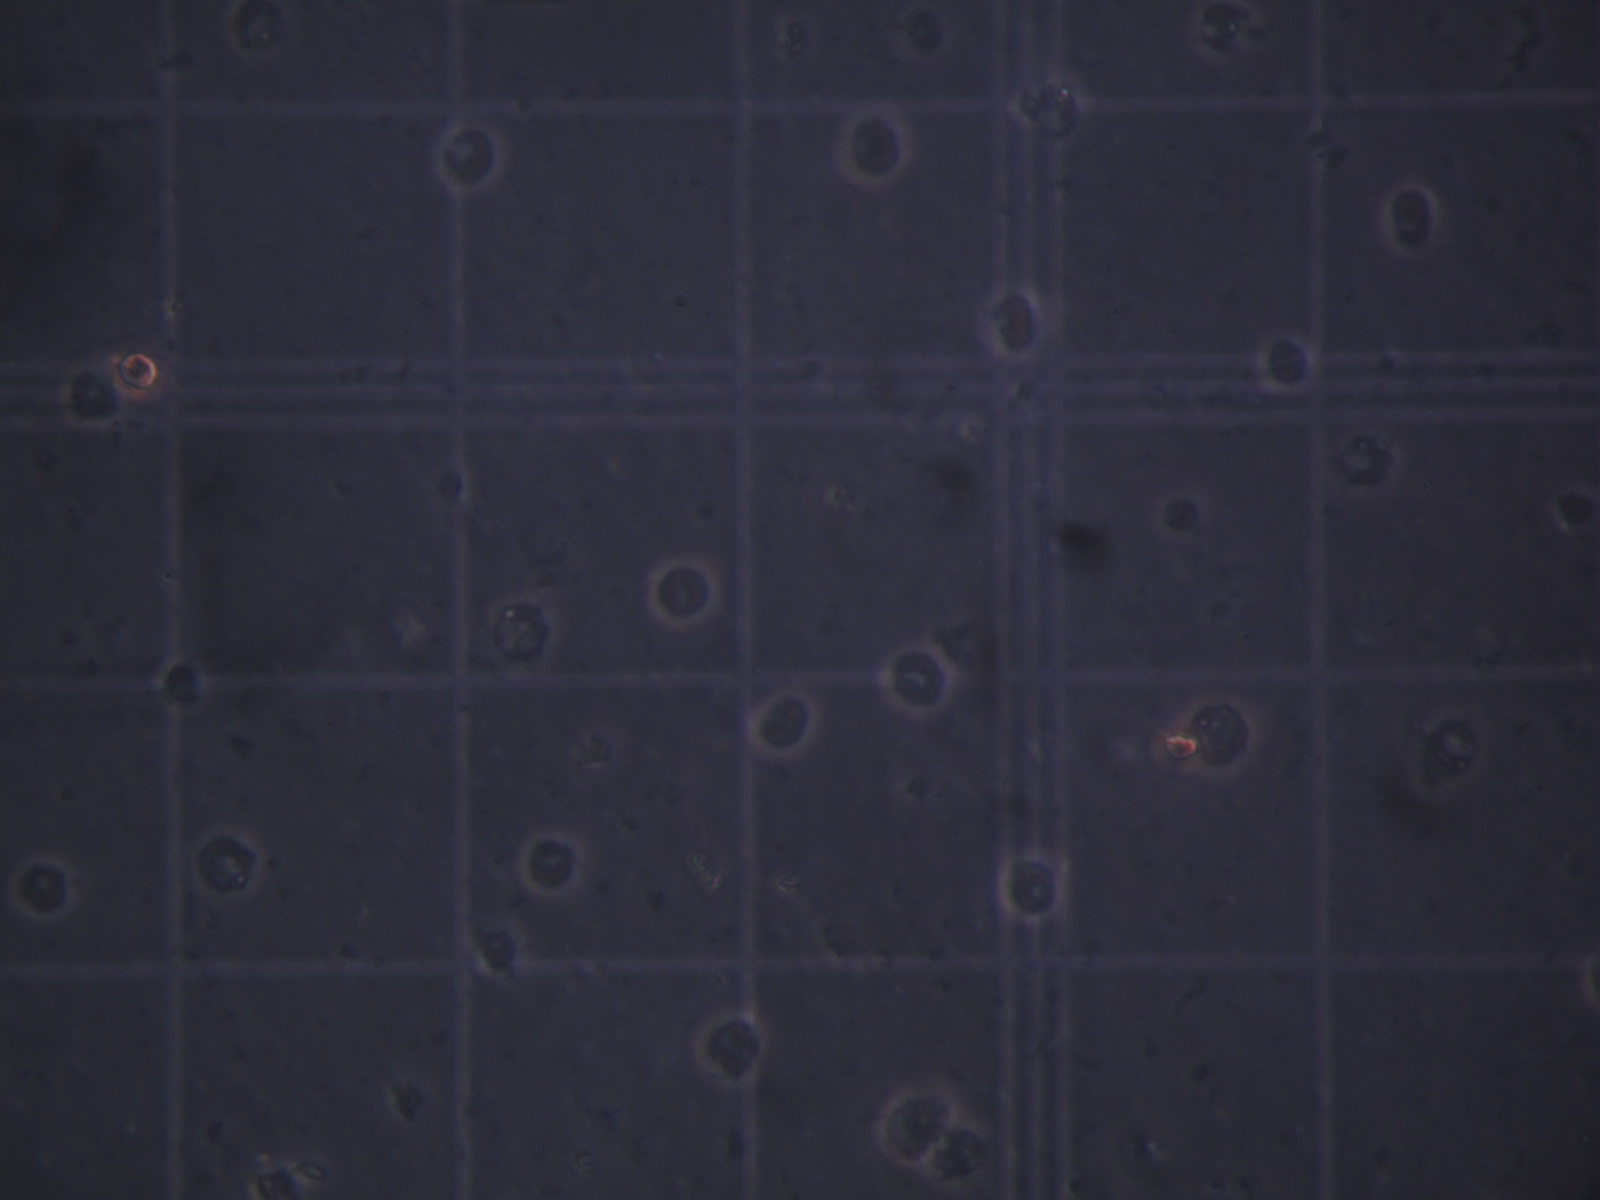hemo: (876, 1080, 960, 1167), (1178, 698, 1262, 782), (640, 555, 727, 632), (189, 821, 267, 901), (690, 1007, 767, 1088), (837, 105, 910, 187), (4, 850, 81, 925), (484, 592, 561, 667), (435, 117, 506, 197), (998, 847, 1070, 926), (913, 1113, 991, 1185), (881, 642, 951, 713), (983, 285, 1046, 364), (747, 684, 815, 758), (1012, 76, 1085, 144), (60, 361, 127, 432), (519, 828, 586, 900), (1250, 326, 1315, 398), (222, 1, 300, 61), (1380, 178, 1439, 255), (152, 655, 207, 711), (249, 1162, 309, 1200)
